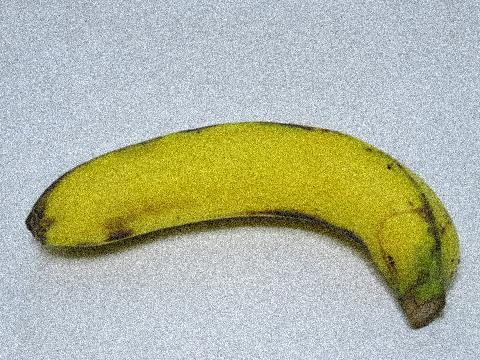freshripe: (18, 113, 466, 325)
